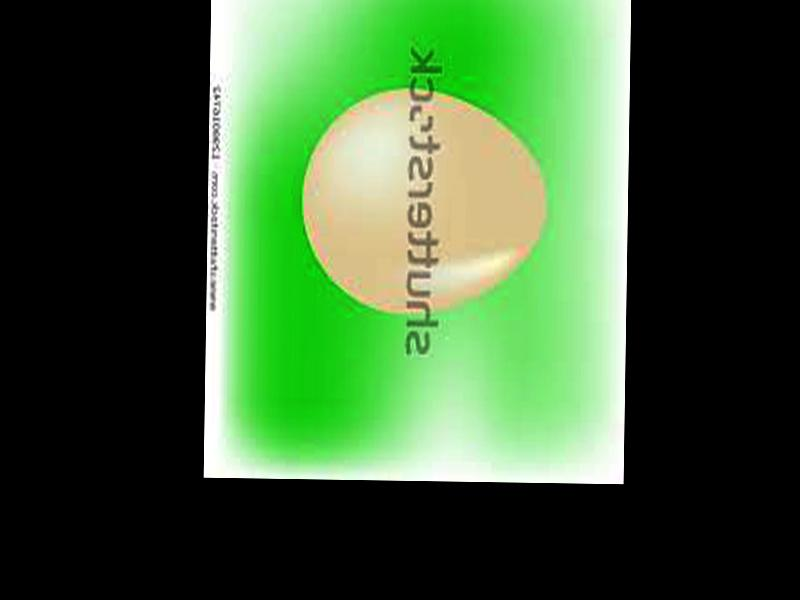Eggs: (301, 86, 548, 315)
